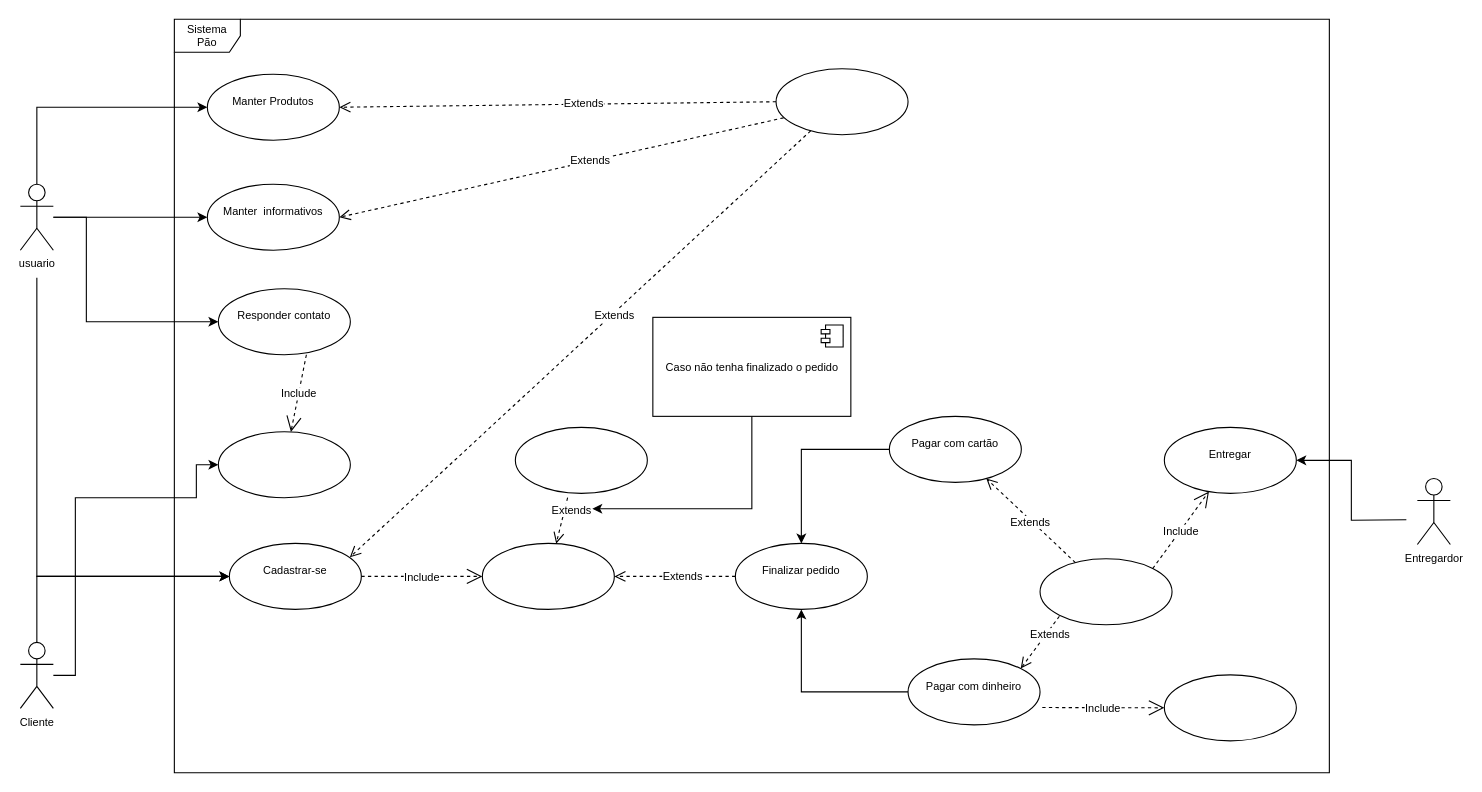
Image size: 1482x792. Some labels were removed from this diagram. The shapes that lost their labels are listed below. From the top down, each one's box as (x1, y1, x2, y2) in pixels, then its label:
(775, 68, 908, 135): CRUD
(217, 431, 350, 498): Falar com vendedor
(514, 426, 647, 493): Limpar carrinho
(481, 542, 614, 609): Adicionar ao Carrinho
(1039, 558, 1172, 625): Local Horário de entrega
(1163, 674, 1296, 741): Solicitar Troco
